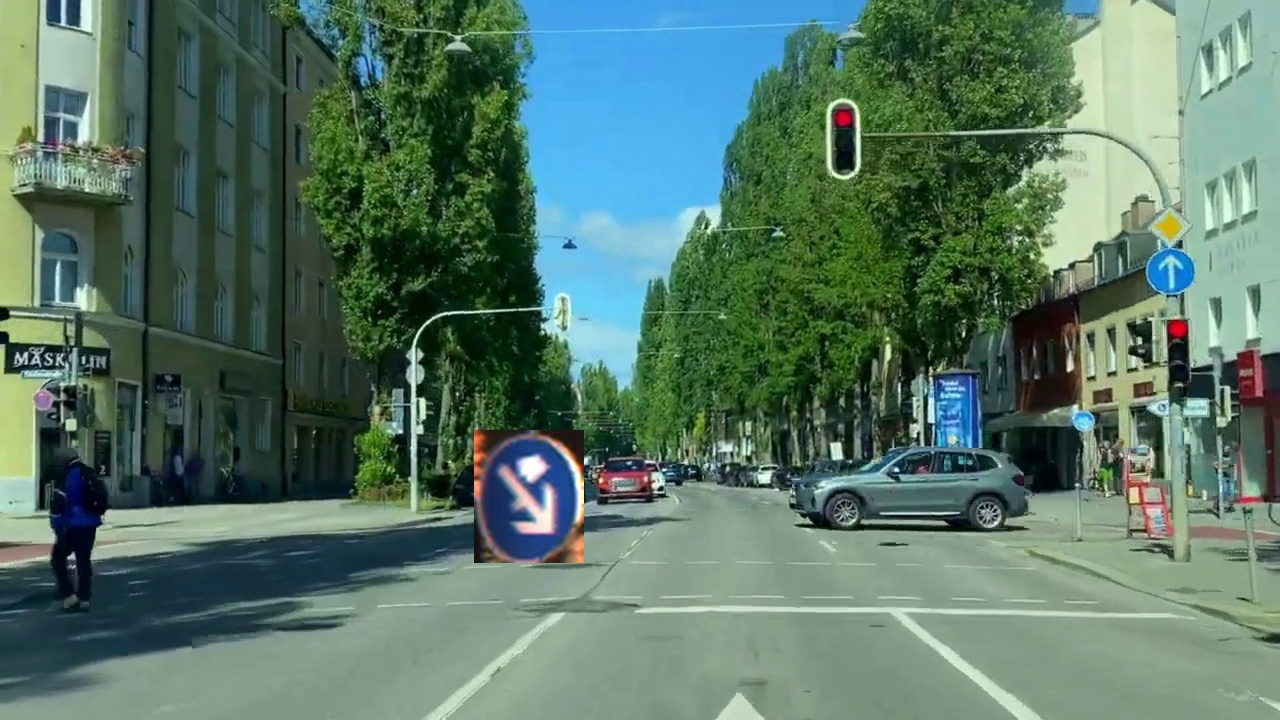Keep right: (474, 430, 584, 563)
